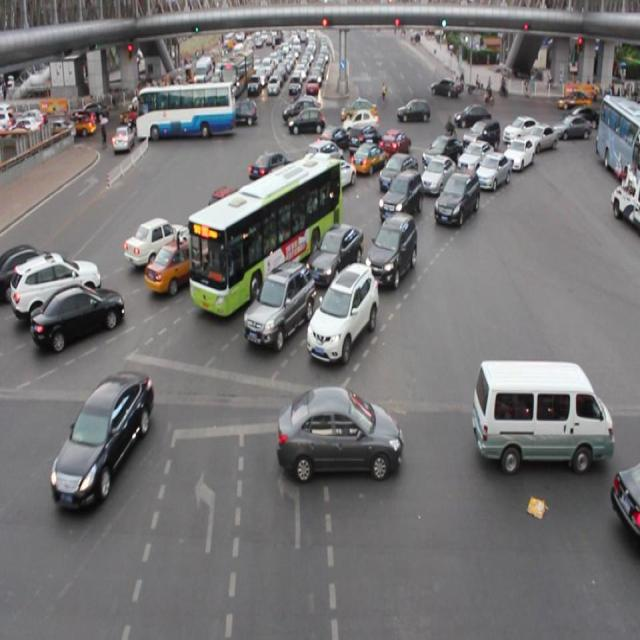car: (52, 370, 152, 518), (276, 384, 400, 482), (307, 262, 376, 363), (30, 282, 124, 352), (243, 263, 312, 347), (12, 253, 102, 317), (368, 212, 416, 288), (1, 242, 66, 297), (123, 217, 194, 267), (144, 240, 207, 291), (310, 223, 361, 284), (263, 190, 324, 233), (610, 462, 640, 548), (211, 215, 270, 258), (206, 185, 258, 230), (435, 172, 478, 225), (380, 169, 420, 220), (266, 166, 313, 209), (421, 134, 462, 175), (379, 152, 418, 192), (314, 156, 356, 192), (249, 153, 294, 184), (420, 154, 454, 193), (458, 142, 492, 177), (351, 140, 383, 175), (502, 115, 544, 141), (476, 153, 507, 188), (463, 120, 499, 150), (378, 130, 410, 163), (348, 122, 380, 154), (502, 135, 530, 168), (516, 126, 556, 149), (314, 124, 348, 150)
truck: (473, 358, 610, 466), (306, 140, 343, 173)
van: (189, 157, 342, 318)
